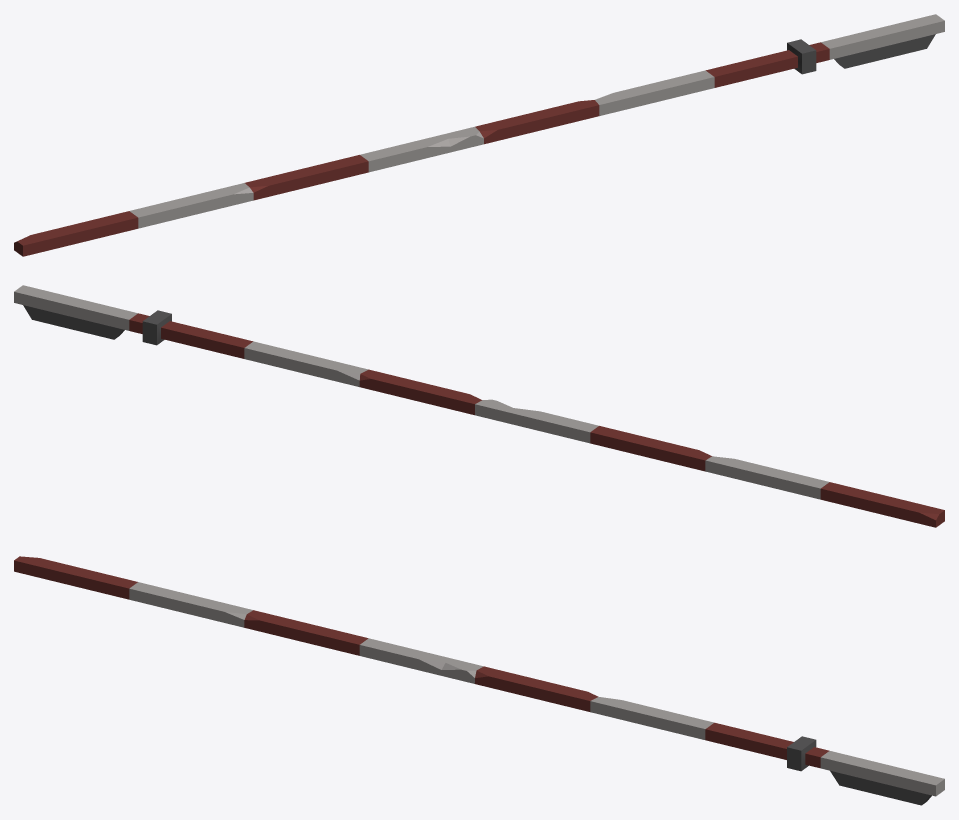
Rendered from SM_Prop_Road_Barrier_Arm_01.glb.
3 renders of one model, top to bottom at view 1: azimuth 30°, elevation 25°; view 2: azimuth 150°, elevation 25°; view 3: azimuth 330°, elevation 25°, orthographic.
Visible parts, largest first — view 1: SM_Prop_Road_Barrier_Arm_01; view 2: SM_Prop_Road_Barrier_Arm_01; view 3: SM_Prop_Road_Barrier_Arm_01.
Boxes of the visible parts, <box> form: SM_Prop_Road_Barrier_Arm_01: <box>14,14,944,256</box>; SM_Prop_Road_Barrier_Arm_01: <box>14,285,944,527</box>; SM_Prop_Road_Barrier_Arm_01: <box>14,556,944,805</box>.
Bounding box in the file's own units: 6.59 × 0.2064 × 0.1863.
1 material, 1 textured.
